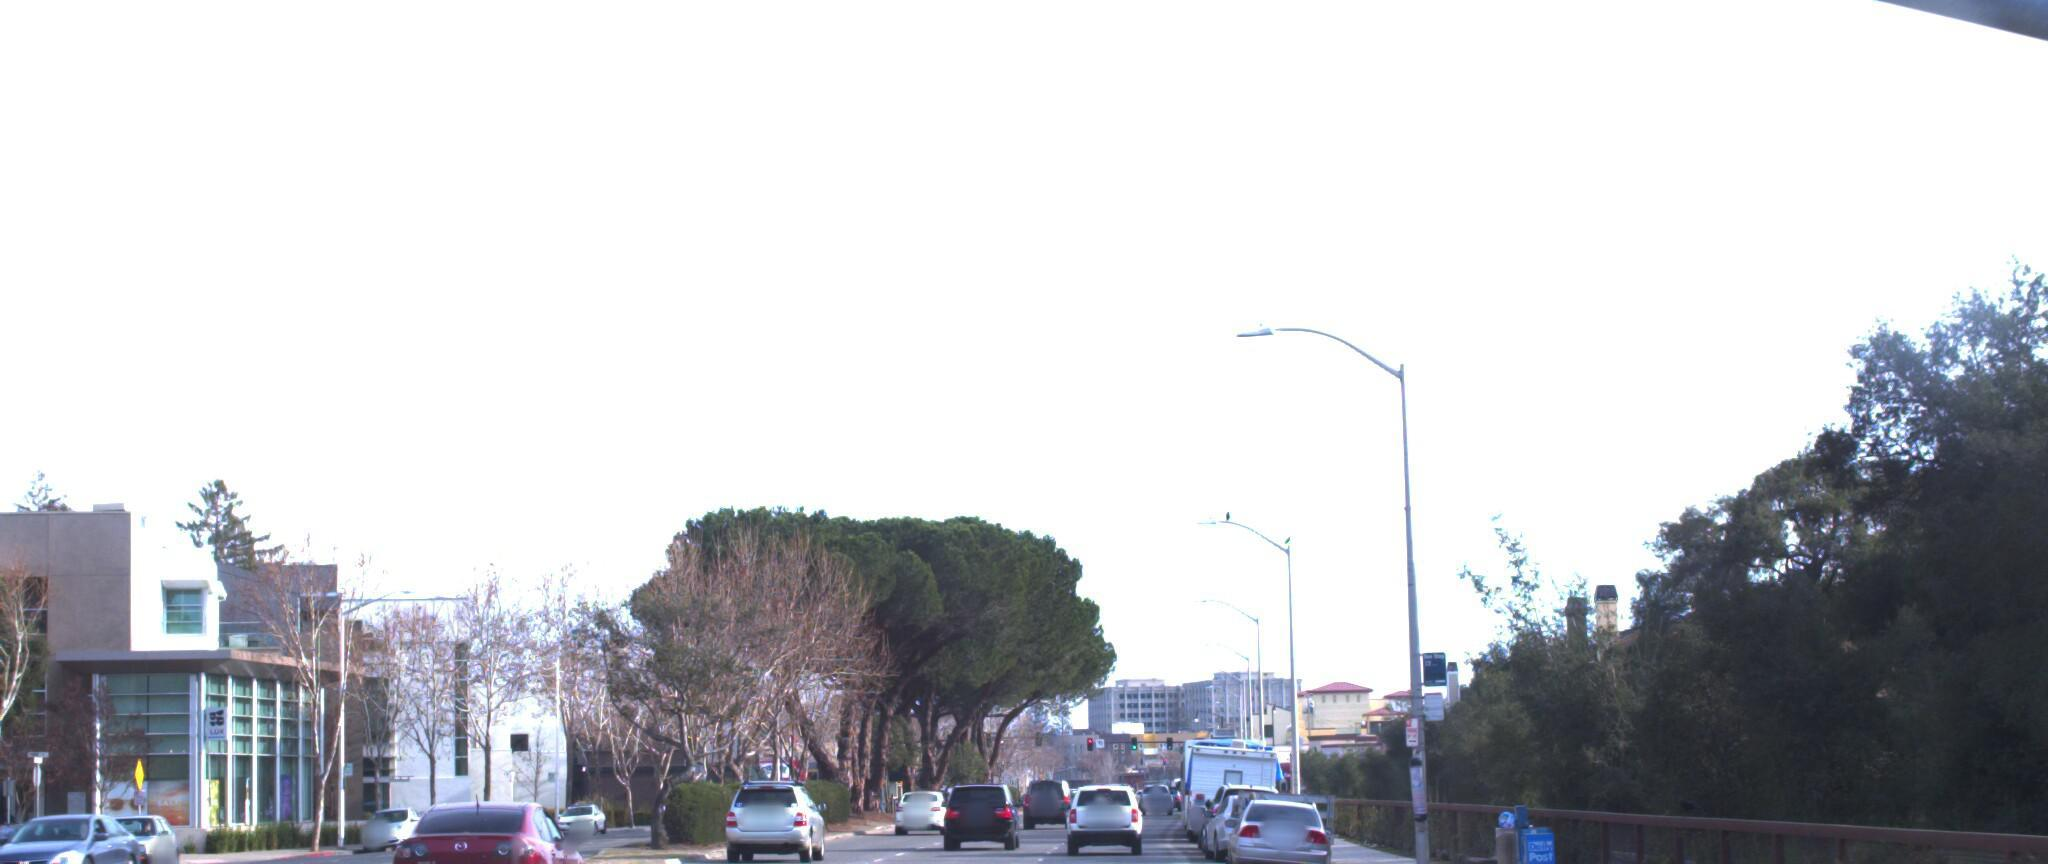car: (379, 784, 590, 864), (714, 780, 827, 864), (1229, 784, 1341, 864), (0, 807, 148, 864), (1215, 797, 1324, 864), (1064, 780, 1147, 861), (944, 780, 1023, 854), (0, 801, 72, 864)
